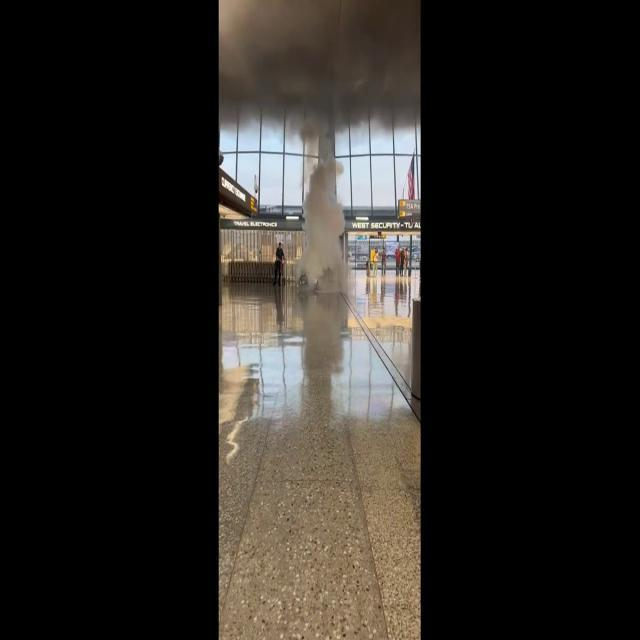Smoke: (218, 0, 419, 140), (296, 158, 350, 288)
